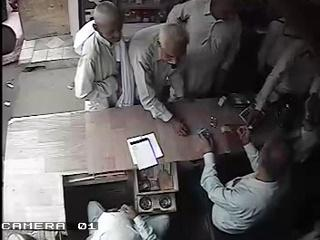Normal: (198, 126, 296, 240), (127, 22, 191, 136), (182, 0, 242, 100), (85, 198, 159, 240), (166, 0, 214, 52)
shoplifting: (73, 2, 129, 112)
